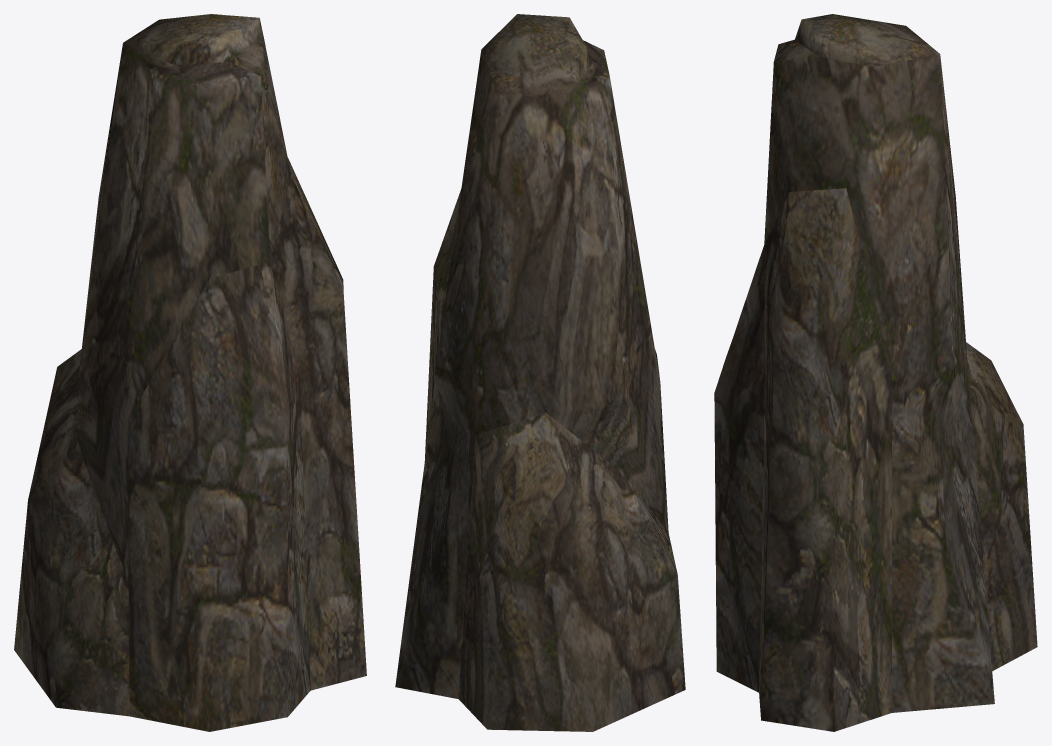
The model's file is Transport01_e.FBX.
The picture shows the model from 3 angles, left to right: view 1: azimuth 30°, elevation 25°; view 2: azimuth 150°, elevation 25°; view 3: azimuth 270°, elevation 25°; orthographic projection. The views are drawn at different scales.
Visible parts, largest first — view 1: Transport01_e; view 2: Transport01_e; view 3: Transport01_e.
Part boxes in pixels (x1=…): Transport01_e: x1=14, y1=14, x2=366, y2=731; Transport01_e: x1=395, y1=14, x2=685, y2=731; Transport01_e: x1=714, y1=14, x2=1037, y2=731.
Bounding box in the file's own units: 141 × 303 × 138.
